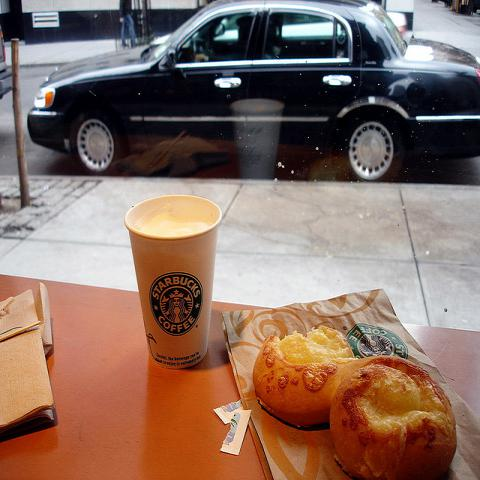car: (25, 0, 479, 186)
